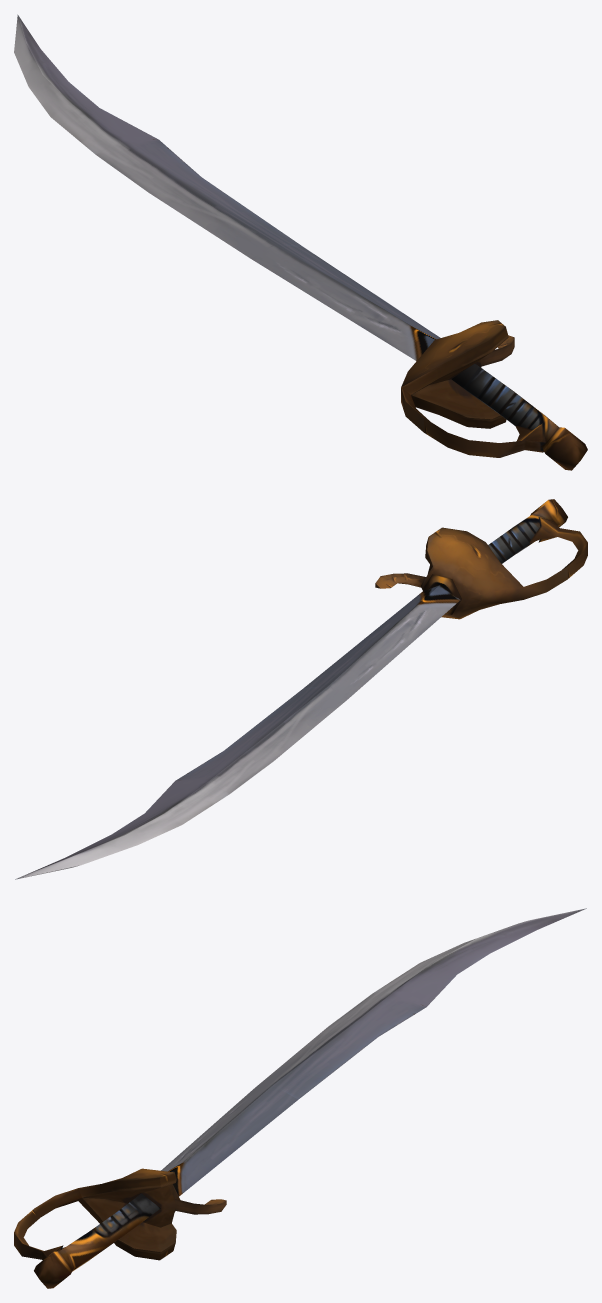
The model's file is Sword_06.fbx.
3 renders of one model, top to bottom at view 1: azimuth 30°, elevation 25°; view 2: azimuth 150°, elevation 25°; view 3: azimuth 330°, elevation 25°, orthographic. The views are drawn at different scales.
Parts seen in each view (by area): view 1: Sword06_el1, Sword06_el2; view 2: Sword06_el1, Sword06_el2; view 3: Sword06_el1, Sword06_el2.
Part boxes in pixels (left/top/right/bottom): Sword06_el1: left=14, top=14, right=440, bottom=360; Sword06_el2: left=401, top=320, right=587, bottom=470; Sword06_el1: left=15, top=585, right=460, bottom=879; Sword06_el2: left=375, top=499, right=587, bottom=619; Sword06_el1: left=161, top=908, right=586, bottom=1196; Sword06_el2: left=14, top=1168, right=226, bottom=1288.
Bounding box in the file's own units: 0.2786 × 0.166 × 1.88.
